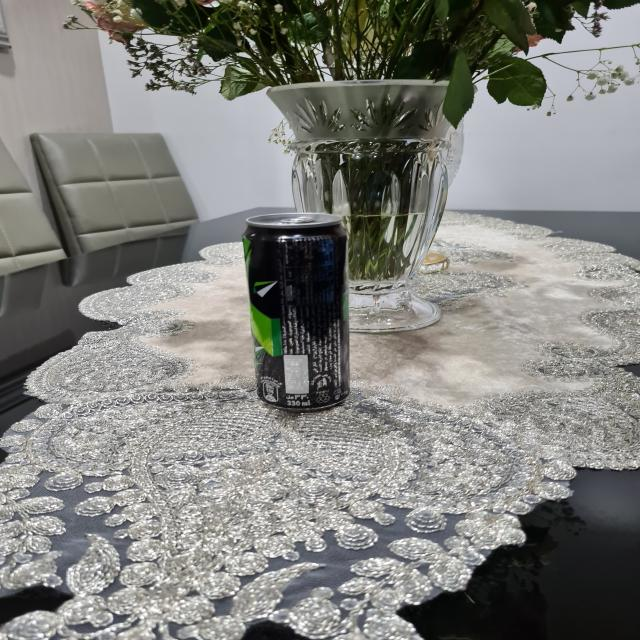non-organic waste: (244, 211, 356, 410)
